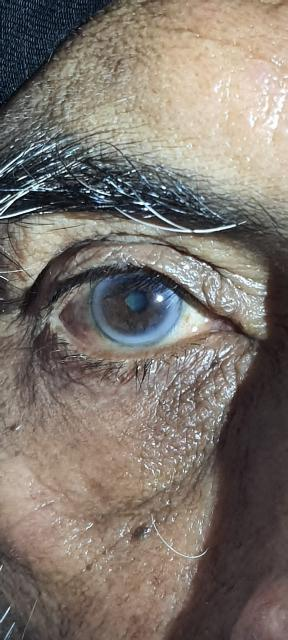eye: (88, 269, 184, 347)
